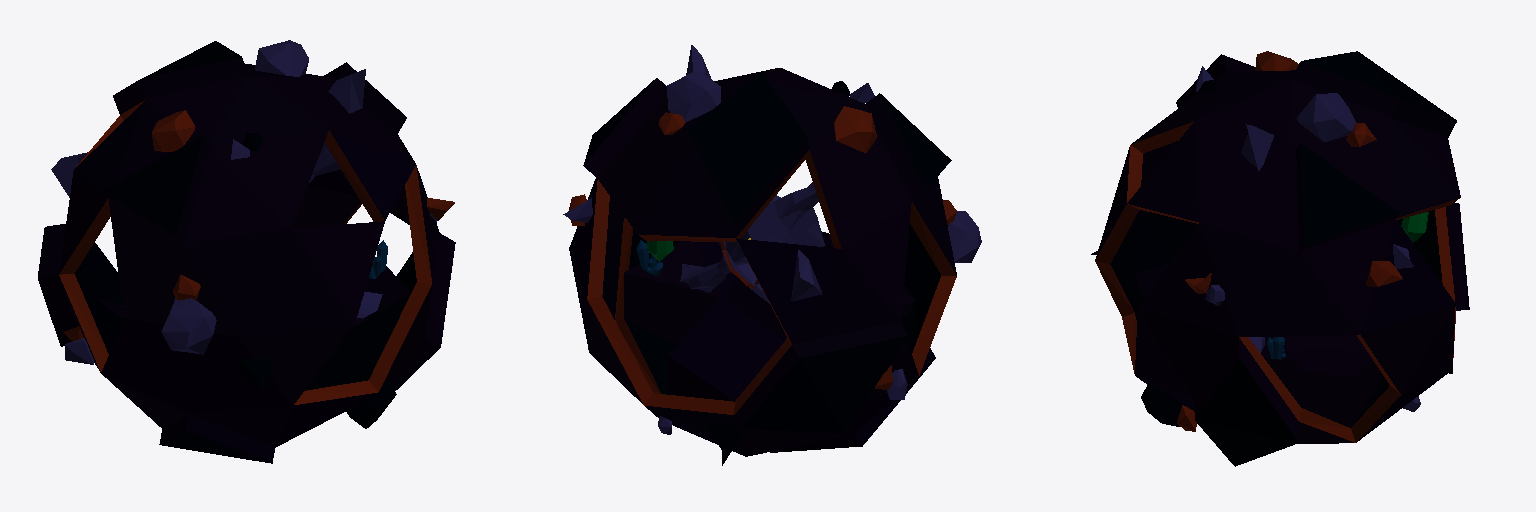
The model's file is darkPlanet.obj.
3 views of the same model, side by side, from view 1: azimuth 30°, elevation 25°; view 2: azimuth 150°, elevation 25°; view 3: azimuth 270°, elevation 25° (orthographic).
Visible parts, largest first — view 1: Cube.029; view 2: Cube.029; view 3: Cube.029.
Part boxes in pixels (x1,y1,x2,y2): Cube.029: (38, 40, 455, 463); Cube.029: (563, 45, 981, 465); Cube.029: (1091, 51, 1469, 466).
Bounding box in the file's own units: 119 × 122 × 109.